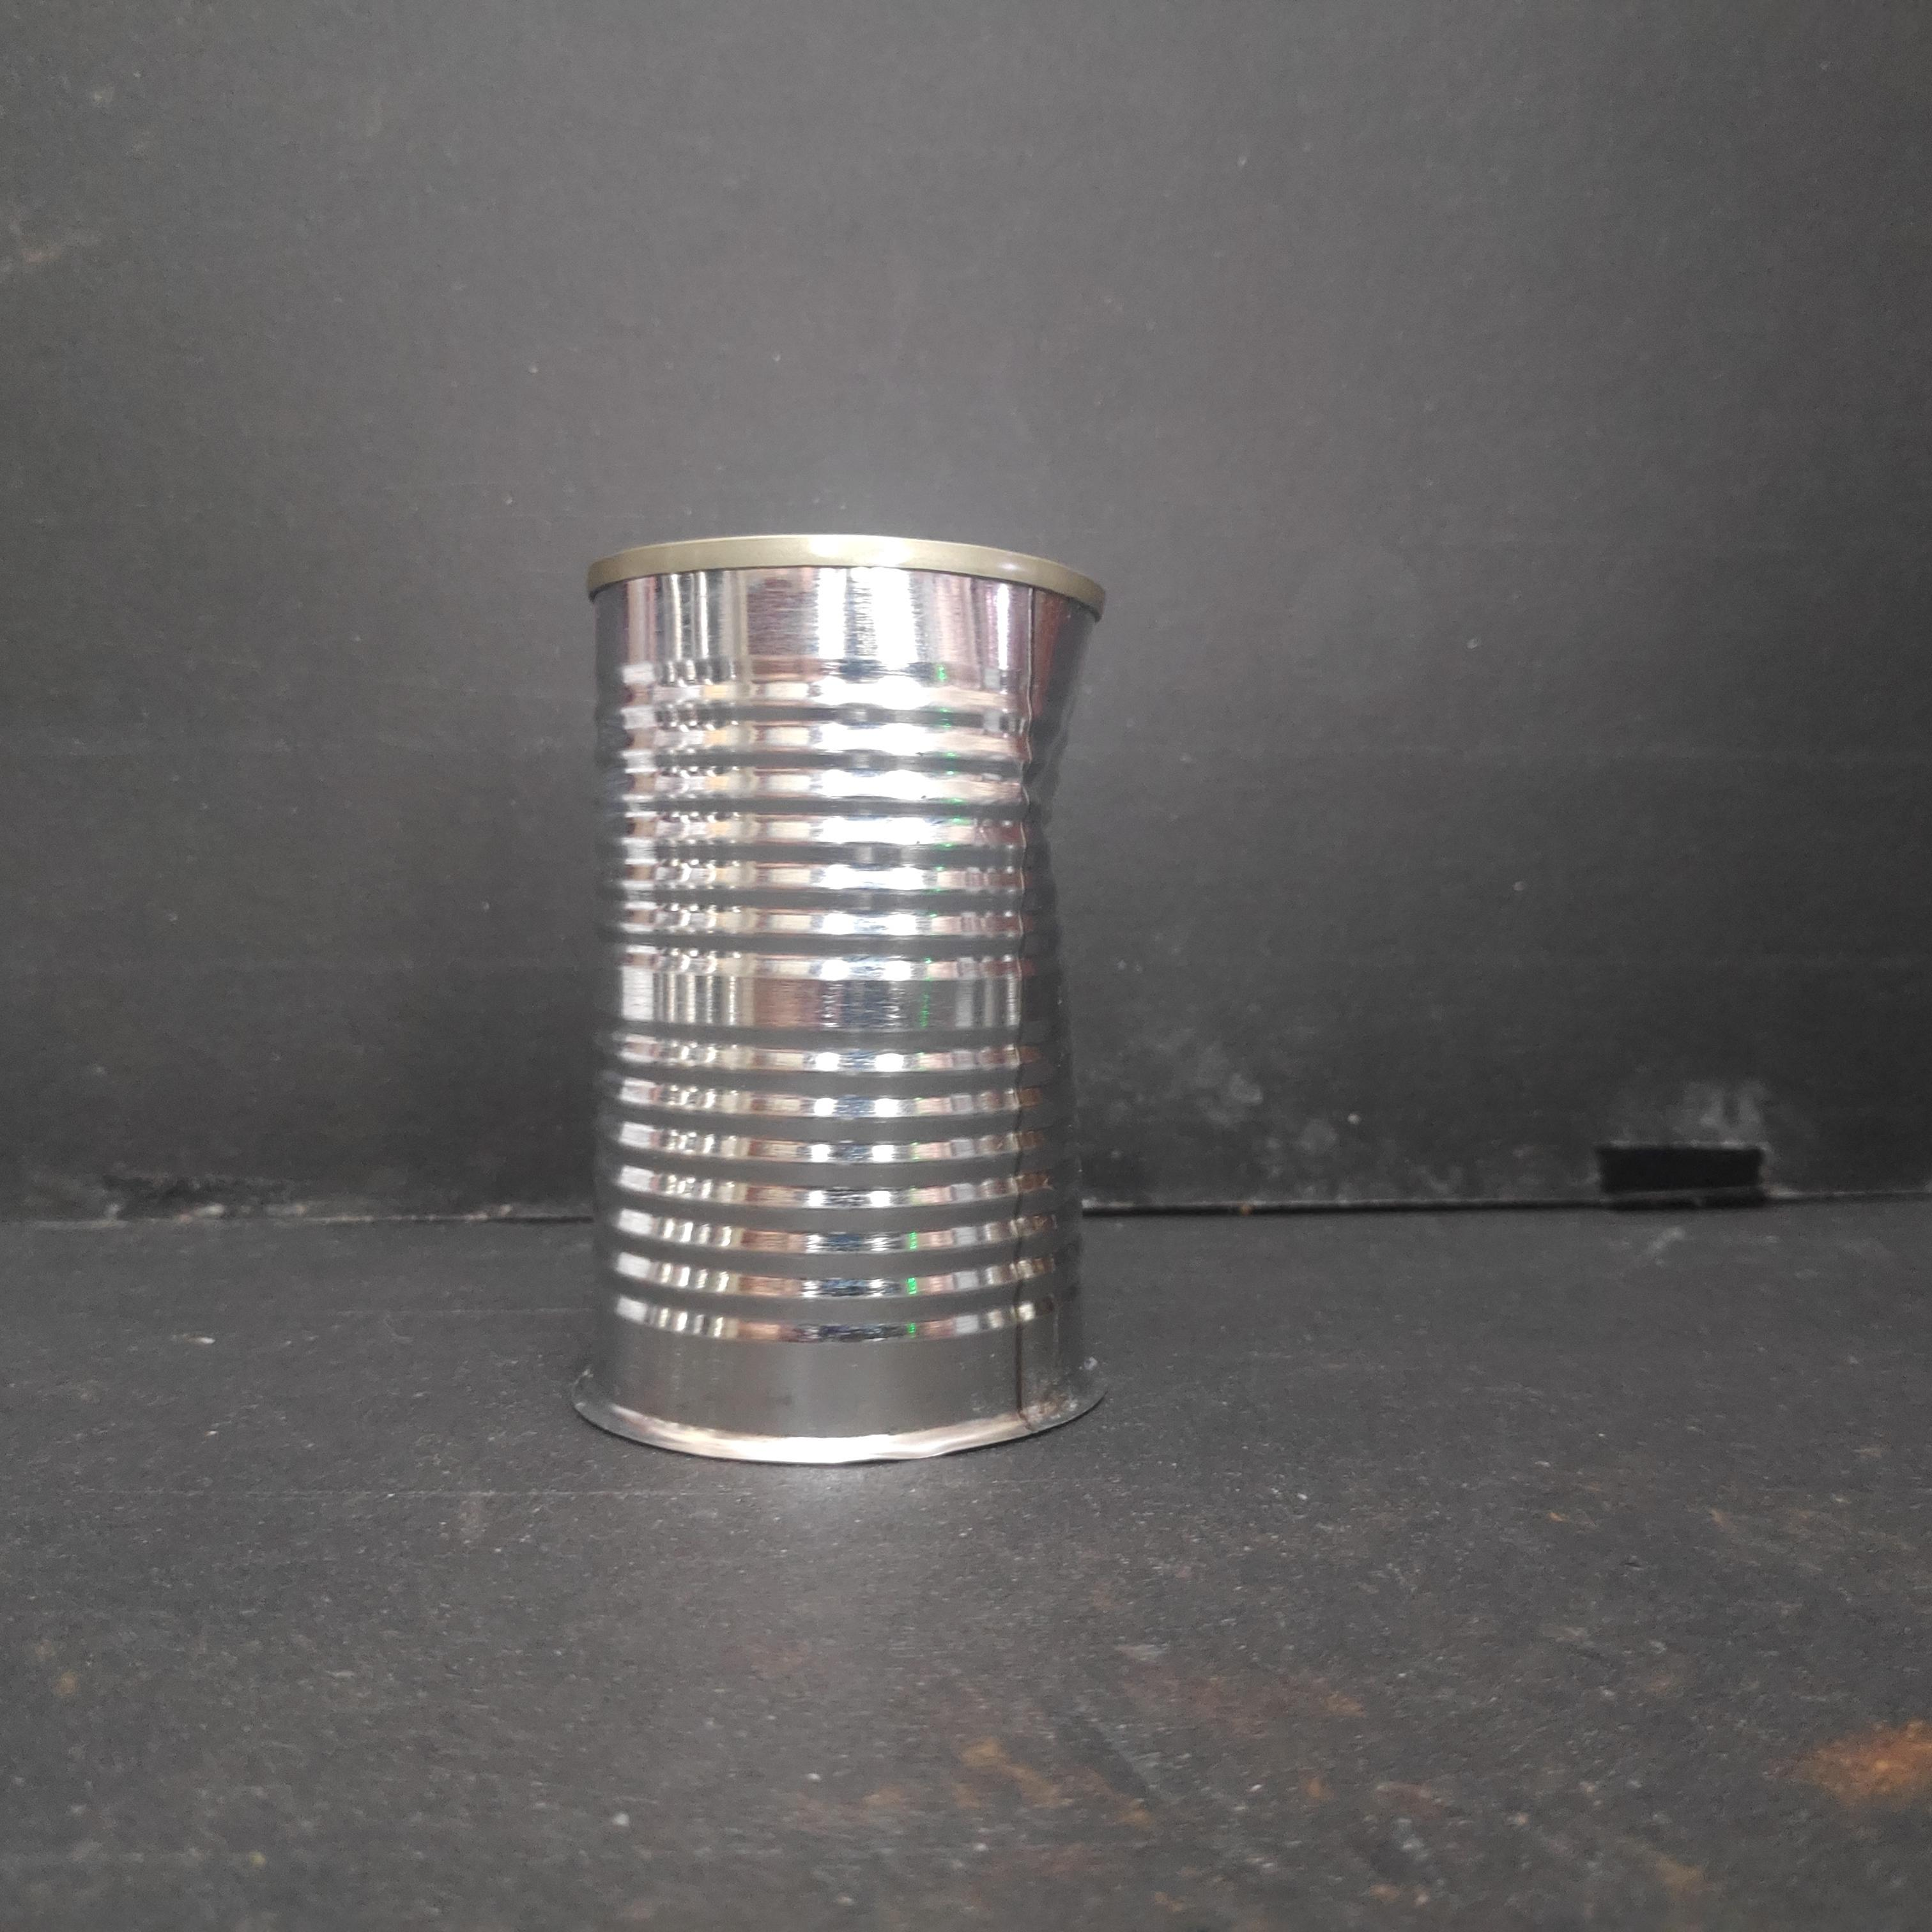Minor Defect: (563, 527, 1116, 1488)
